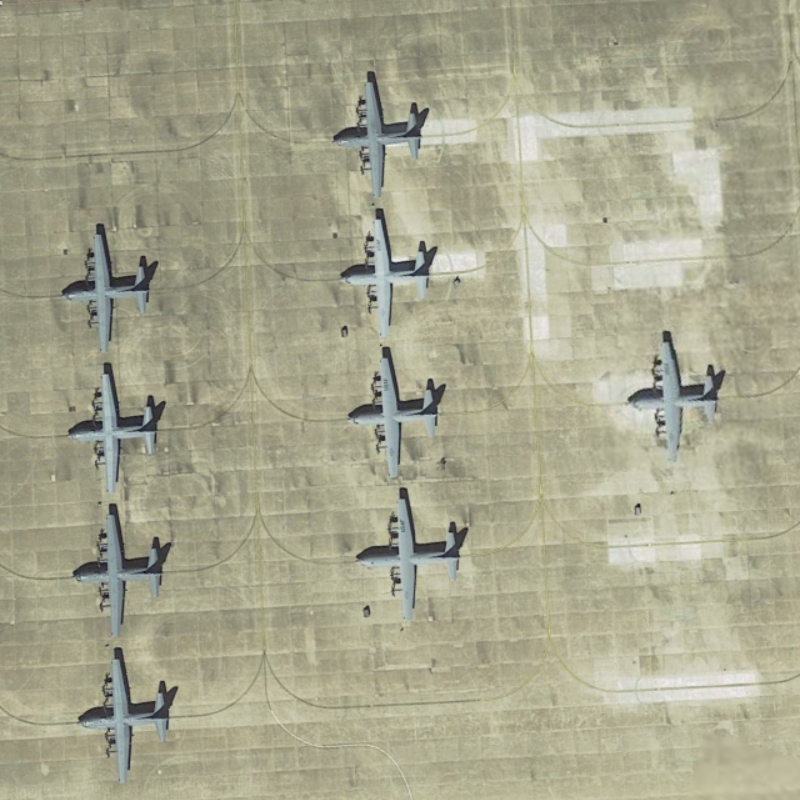A2: (348, 487, 465, 614), (72, 649, 176, 790), (340, 349, 448, 481), (326, 72, 435, 201), (334, 211, 437, 344), (65, 505, 167, 639), (56, 228, 158, 360), (626, 330, 726, 464), (61, 367, 164, 497)
